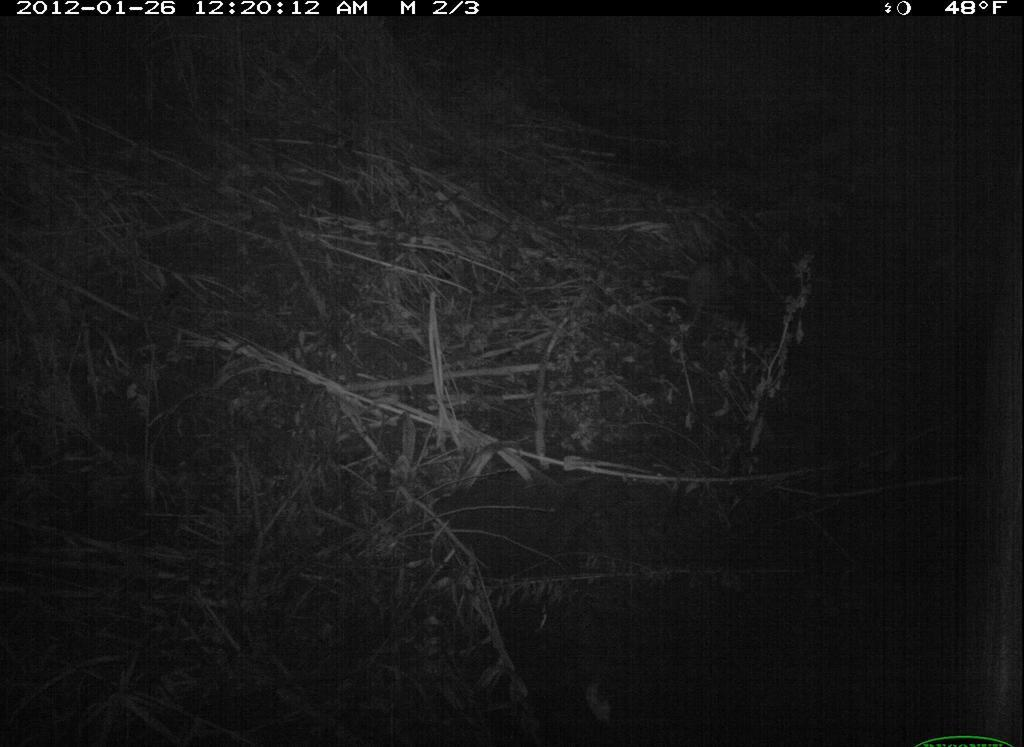opossum: (681, 247, 744, 329)
